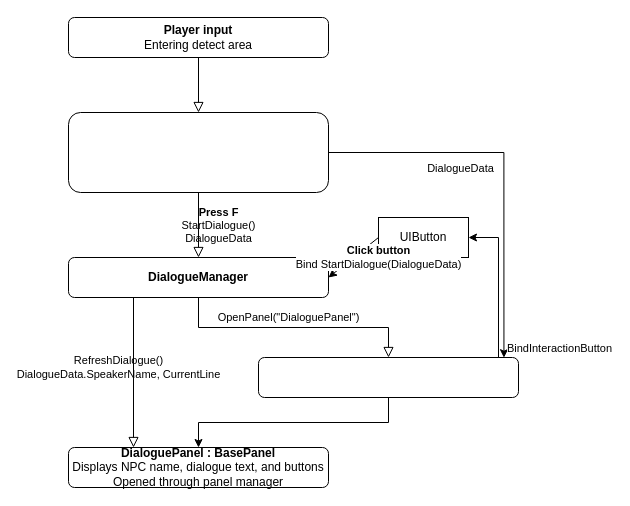
Some shapes in this 630 by 506 pixel diagram are drawn without their labels. Here are the shapes that lost their labels. From the top down, the centre of each, then its label:
At (198,152): "NPCInteractable Detects interaction and provides dialogue data".
At (388,377): "UIManager".
